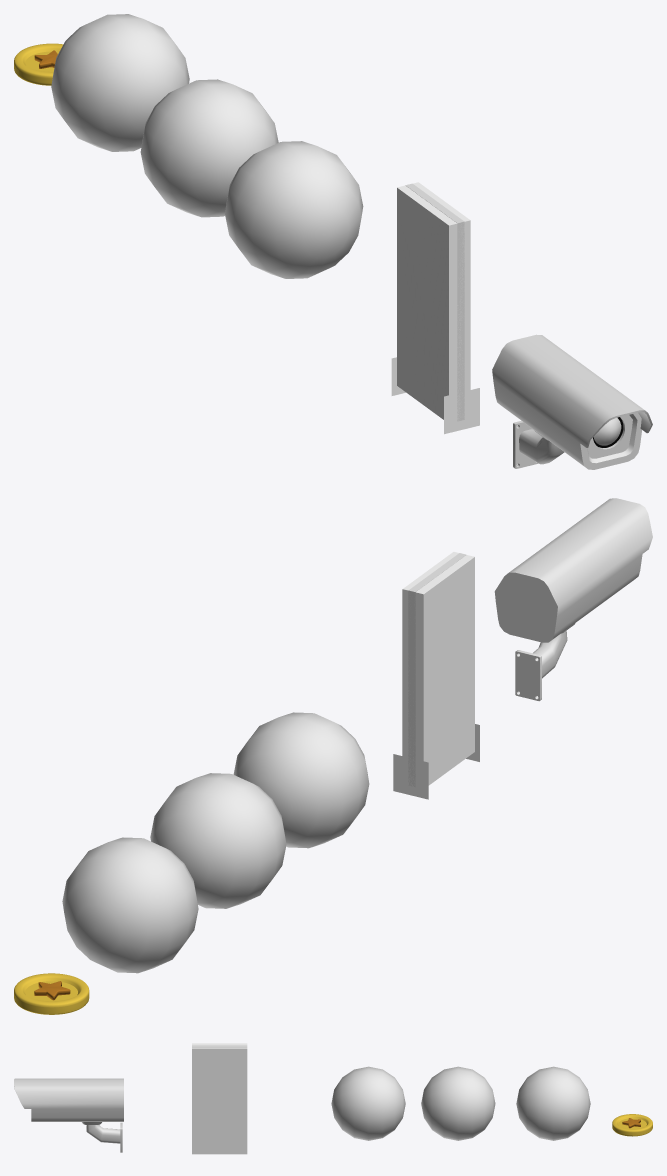
The model's file is buku.fbx.
3 renders of one model, top to bottom at view 1: azimuth 30°, elevation 25°; view 2: azimuth 150°, elevation 25°; view 3: azimuth 270°, elevation 25°, orthographic. The views are drawn at different scales.
Parts seen in each view (by area): view 1: Buku, CTRL_Hole, Buku.002, Buku.001, Body CCTV, DoorFrame, CCTV, Cylinder.008, CTRL_Baseboard; view 2: Buku.002, CTRL_Hole, Body CCTV, Buku.001, Buku, Cylinder.008, CCTV, DoorFrame, CTRL_Baseboard; view 3: CTRL_Hole, Body CCTV, Buku.002, Buku, Buku.001, Cylinder.008, CCTV.
Boxes of the visible parts, bbox=[...] form: Buku: bbox=[225, 141, 363, 278]; CTRL_Hole: bbox=[397, 182, 470, 423]; Buku.002: bbox=[51, 14, 189, 151]; Buku.001: bbox=[140, 79, 278, 217]; Body CCTV: bbox=[492, 334, 652, 469]; DoorFrame: bbox=[405, 183, 464, 421]; CCTV: bbox=[513, 420, 564, 468]; Cylinder.008: bbox=[14, 43, 63, 85]; CTRL_Baseboard: bbox=[391, 357, 479, 434]; Buku.002: bbox=[62, 837, 198, 973]; CTRL_Hole: bbox=[402, 552, 474, 788]; Body CCTV: bbox=[494, 498, 652, 642]; Buku.001: bbox=[150, 773, 286, 908]; Buku: bbox=[233, 712, 369, 848]; Cylinder.008: bbox=[14, 973, 89, 1014]; CCTV: bbox=[515, 630, 567, 701]; DoorFrame: bbox=[408, 553, 466, 786]; CTRL_Baseboard: bbox=[393, 724, 479, 799]; CTRL_Hole: bbox=[192, 1043, 247, 1154]; Body CCTV: bbox=[14, 1078, 123, 1124]; Buku.002: bbox=[516, 1066, 590, 1140]; Buku: bbox=[331, 1066, 405, 1140]; Buku.001: bbox=[421, 1066, 495, 1140]; Cylinder.008: bbox=[612, 1114, 652, 1136]; CCTV: bbox=[86, 1122, 122, 1152].
Bounding box in the file's own units: 362 × 594 × 3111.
